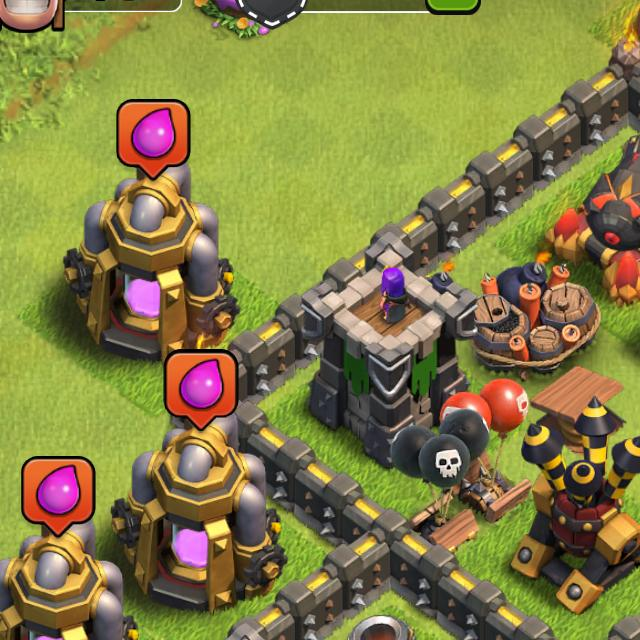FullElixir: (117, 97, 191, 176), (25, 455, 97, 536), (168, 352, 237, 426)
